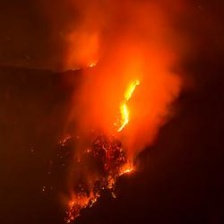fire: (43, 75, 149, 218)
